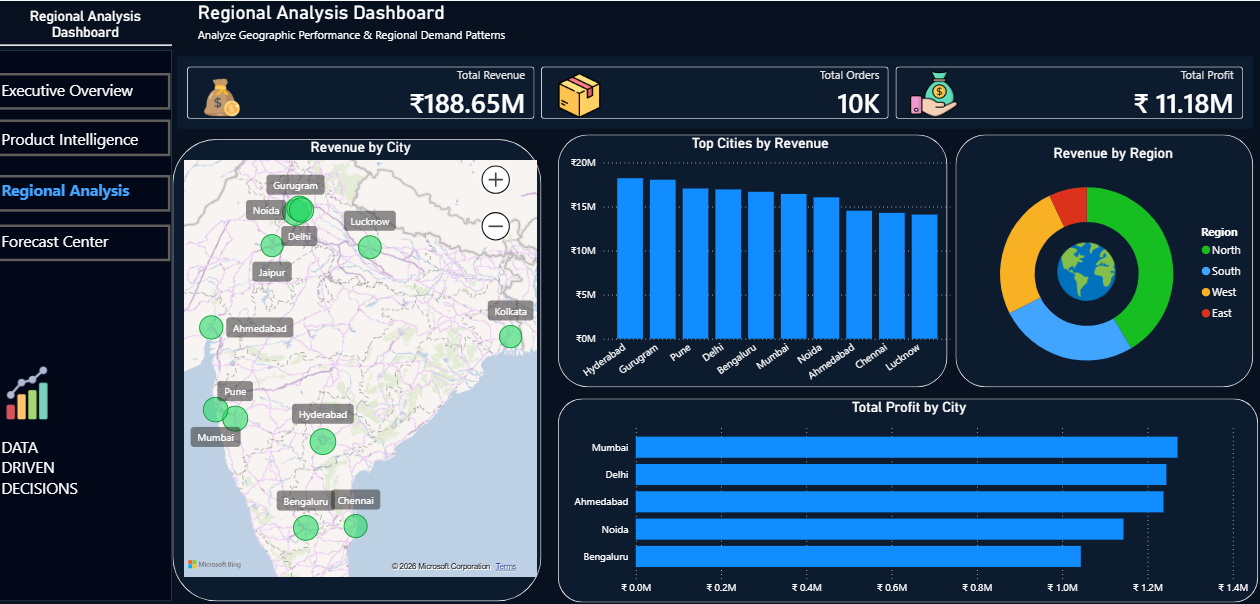

The page's visual inventory and layout, read from the dashboard file:
{"tool":"powerbi","page":{"name":"PAGE 3","canvas":[1521,730],"ordinal":2},"visuals":[{"type":"shape","box":[211.1,166.2,442.4,554.7],"z":0},{"type":"shape","title":"Regional Analysis Dashboard","box":[2,0,208,720],"z":1000},{"type":"textbox","title":"Regional Analysis Dashboard","box":[236,0,1000,62],"z":2000},{"type":"cardVisual","fields":{"Data":["SalesTable.Total Revenue","SalesTable.Total Orders","SalesTable.Total Profit"]},"box":[210.3,62,1303.2,97.6],"z":3000},{"type":"shape","box":[1149.7,159.4,357,303.2],"z":4000},{"type":"donutChart","title":"Revenue by Region","fields":{"Y":["SalesTable.Total Revenue"],"Category":["SalesTable.Region"]},"box":[1164.2,172.8,349.3,289.2],"z":5000},{"type":"shape","box":[673.7,159.4,467.1,303.2],"z":6000},{"type":"shape","box":[673.7,476.1,839.8,244.8],"z":7000},{"type":"map","title":"Revenue by City","fields":{"Category":["SalesTable.City"],"Size":["SalesTable.Total Revenue"]},"box":[220.1,166.2,433.4,530],"z":8000},{"type":"textbox","box":[0,88,210,38],"z":9000},{"type":"textbox","box":[0,148,210,38],"z":10000},{"type":"textbox","box":[0,208,210,38],"z":11000},{"type":"textbox","box":[0,270,210,38],"z":12000},{"type":"clusteredColumnChart","title":"Top Cities by Revenue","fields":{"Category":["SalesTable.City"],"Y":["SalesTable.Total Revenue"]},"box":[682.7,159.4,467.1,316.6],"z":13000},{"type":"clusteredBarChart","fields":{"Category":["SalesTable.City"],"Y":["SalesTable.Total Profit"]},"box":[682.7,476.1,824.1,244.8],"z":14000},{"type":"image","box":[229,91,82,48],"z":15000},{"type":"image","box":[614,86,170,54],"z":16000},{"type":"image","box":[1024,80,200,65],"z":17000},{"type":"image","box":[1250,290,112,70],"z":18000},{"type":"actionButton","box":[0,86,208,44],"z":19000},{"type":"actionButton","box":[0,142,208,44],"z":20000},{"type":"actionButton","box":[0,208,208,44],"z":21000},{"type":"actionButton","box":[0,268,208,44],"z":22000},{"type":"image","box":[0,386,72,166],"z":23000},{"type":"textbox","box":[0,516,122,162],"z":24000},{"type":"shape","box":[1038,16,300,46],"z":25000}]}

Visuals, with their boxes on the page's 1521x730 design canvas (x1, y1, x2, y2). These are canvas units, not pixel positions in the 1260x604 screenshot, which may show the page scaled, cropped or inside an application window:
shape: 211,166,654,721
"Regional Analysis Dashboard" shape: 2,0,210,720
"Regional Analysis Dashboard" textbox: 236,0,1236,62
cardVisual - SalesTable.Total Revenue x SalesTable.Total Orders: 210,62,1514,160
shape: 1150,159,1507,463
"Revenue by Region" donutChart: 1164,173,1514,462
shape: 674,159,1141,463
shape: 674,476,1514,721
"Revenue by City" map: 220,166,654,696
textbox: 0,88,210,126
textbox: 0,148,210,186
textbox: 0,208,210,246
textbox: 0,270,210,308
"Top Cities by Revenue" clusteredColumnChart: 683,159,1150,476
clusteredBarChart - SalesTable.City x SalesTable.Total Profit: 683,476,1507,721
image: 229,91,311,139
image: 614,86,784,140
image: 1024,80,1224,145
image: 1250,290,1362,360
actionButton: 0,86,208,130
actionButton: 0,142,208,186
actionButton: 0,208,208,252
actionButton: 0,268,208,312
image: 0,386,72,552
textbox: 0,516,122,678
shape: 1038,16,1338,62
